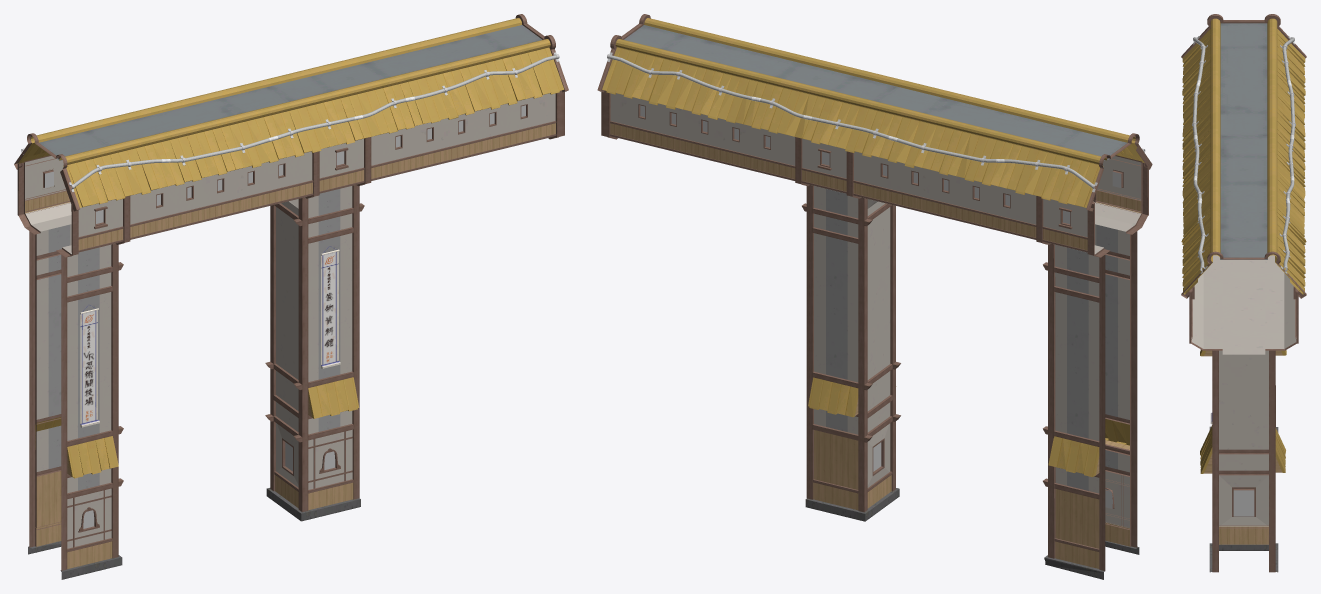
File: SM_ENV_KNVLLG_gate_A.fbx
3 views of the same model, side by side, from view 1: azimuth 30°, elevation 25°; view 2: azimuth 150°, elevation 25°; view 3: azimuth 270°, elevation 25° (orthographic).
Parts seen in each view (by area): view 1: SM_ENV_KNVLLG_gate_A.mo; view 2: SM_ENV_KNVLLG_gate_A.mo; view 3: SM_ENV_KNVLLG_gate_A.mo.
Part boxes in pixels (<box>): SM_ENV_KNVLLG_gate_A.mo: <box>14,14,568,579</box>; SM_ENV_KNVLLG_gate_A.mo: <box>597,14,1152,579</box>; SM_ENV_KNVLLG_gate_A.mo: <box>1181,14,1306,572</box>.
Bounding box in the file's own units: 6754 × 5521 × 1490.
